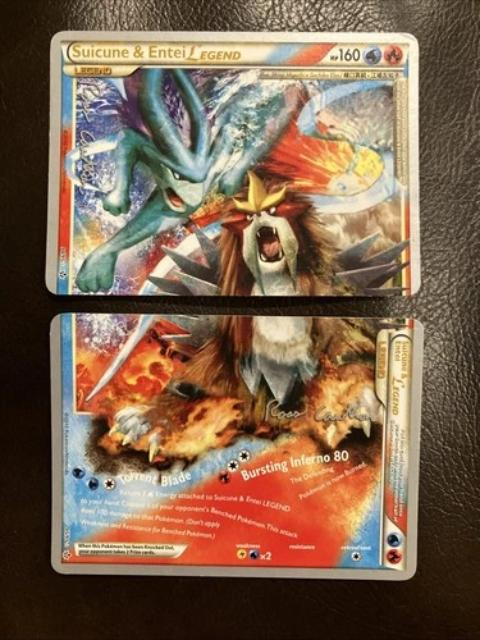Card: (47, 310, 426, 585), (43, 27, 424, 299)
Name: (66, 40, 247, 66), (386, 336, 413, 430)
